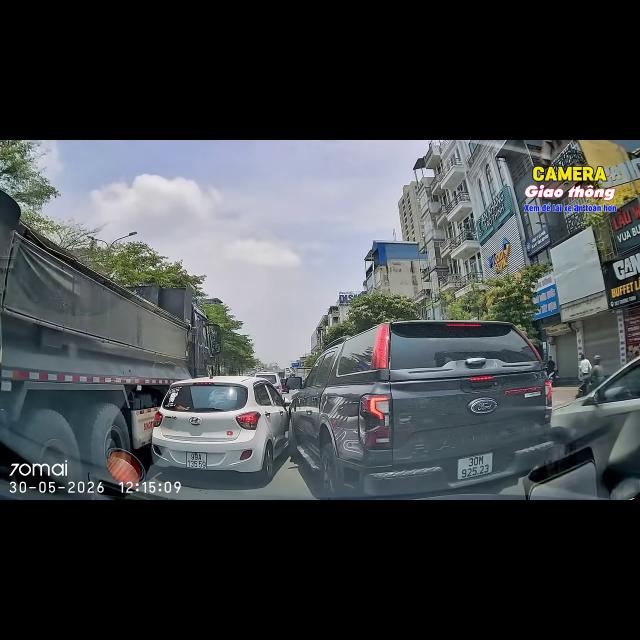car: (287, 321, 556, 497), (152, 376, 289, 480), (552, 359, 639, 499), (255, 372, 282, 394), (281, 379, 289, 393)
truck: (0, 192, 220, 480)
